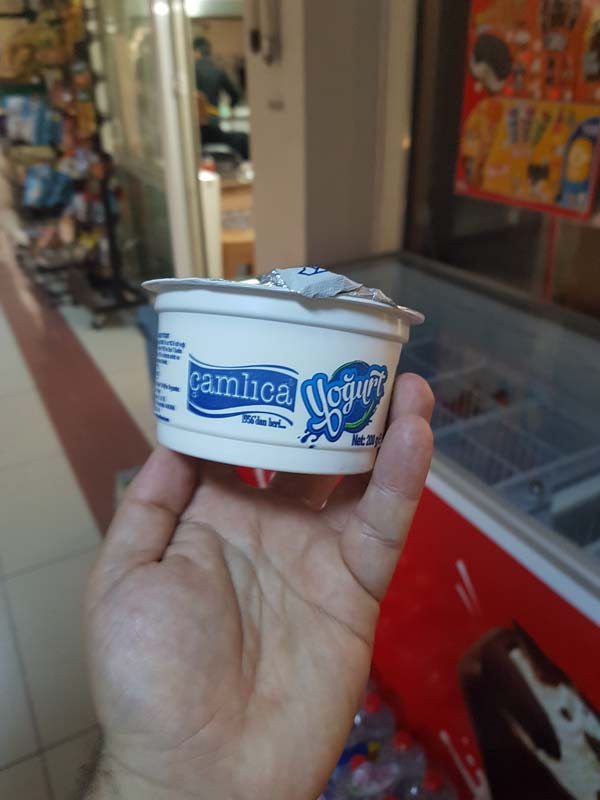camlicayogurt: (134, 236, 423, 480)
